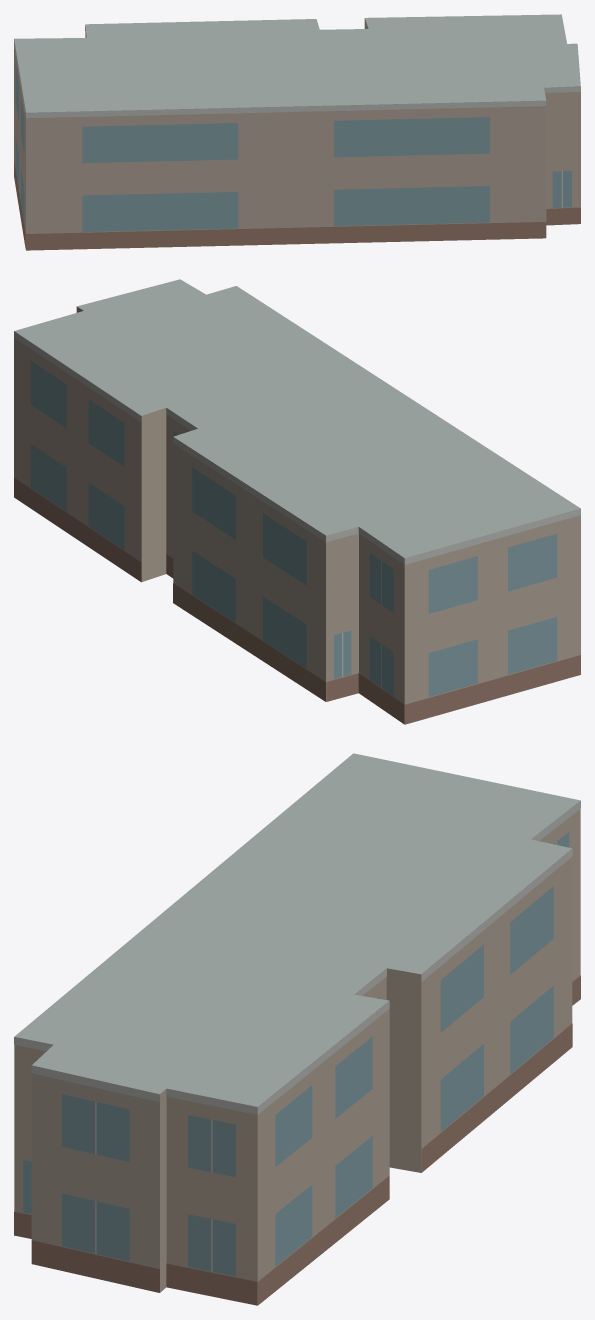
Rendered from survey-upis-32885193.glb.
3 views of the same model, one above another, from view 1: azimuth 30°, elevation 25°; view 2: azimuth 150°, elevation 25°; view 3: azimuth 270°, elevation 25° (orthographic). The views are drawn at different scales.
Visible parts, largest first — view 1: survey-upis-32885193.tmp; view 2: survey-upis-32885193.tmp; view 3: survey-upis-32885193.tmp.
Part boxes in pixels (left/top/right/bottom): survey-upis-32885193.tmp: left=14, top=14, right=580, bottom=250; survey-upis-32885193.tmp: left=14, top=279, right=580, bottom=724; survey-upis-32885193.tmp: left=14, top=753, right=580, bottom=1305.
Size of the model in its own units: 23.3 by 6.1 by 15.78.
